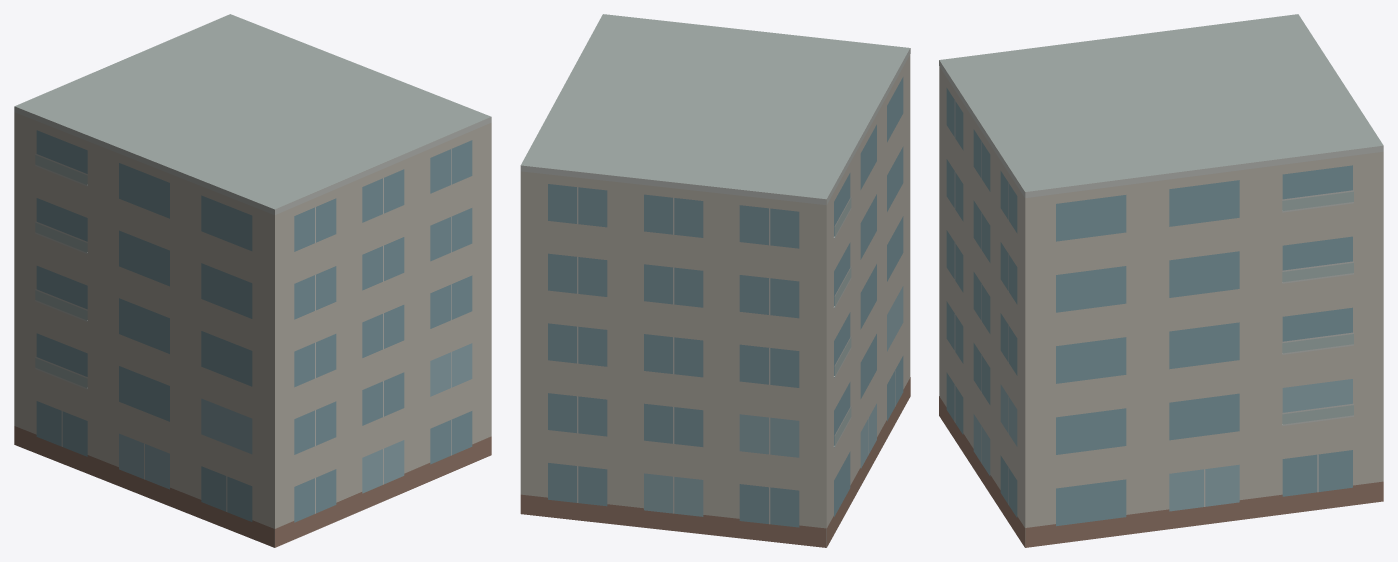
The model's file is survey-upis-32626165.glb.
The picture shows the model from 3 angles, left to right: view 1: azimuth 30°, elevation 25°; view 2: azimuth 150°, elevation 25°; view 3: azimuth 270°, elevation 25°; orthographic projection. The views are drawn at different scales.
Parts seen in each view (by area): view 1: survey-upis-32626165.tmp; view 2: survey-upis-32626165.tmp; view 3: survey-upis-32626165.tmp.
Part boxes in pixels (x1,y1,x2,y2): survey-upis-32626165.tmp: (14,14,491,547); survey-upis-32626165.tmp: (520,14,910,547); survey-upis-32626165.tmp: (939,14,1383,547).
Bounding box in the file's own units: 15.36 × 14.3 × 16.2.
